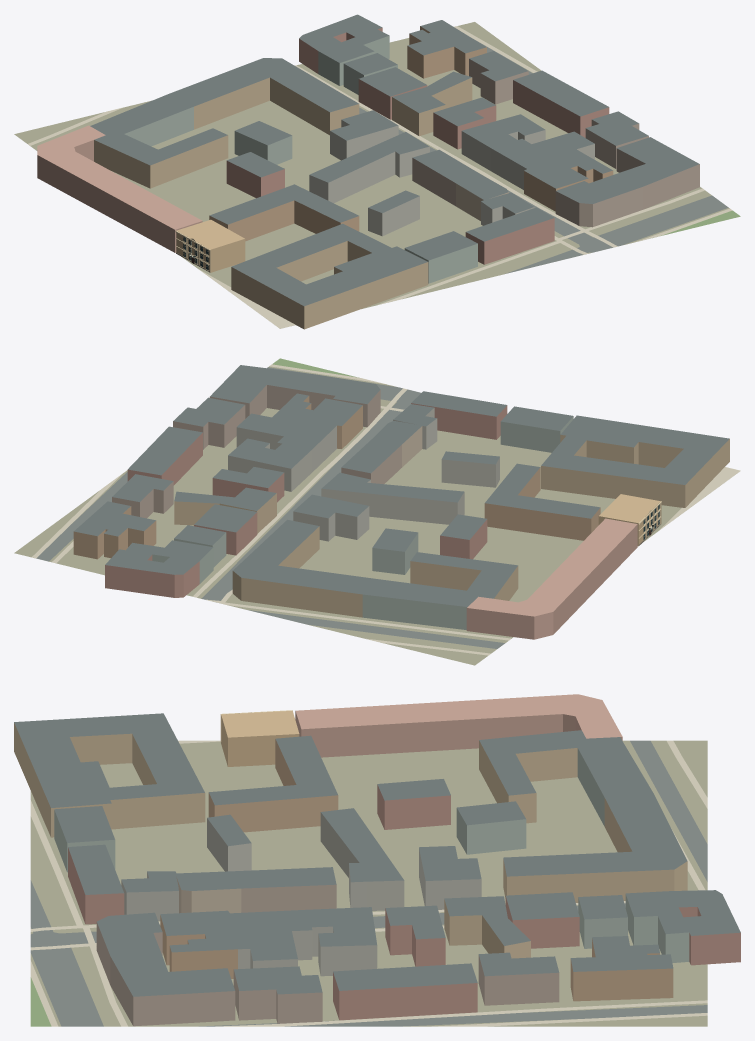
The model's file is sector-0_-2.glb.
3 views of the same model, one above another, from view 1: azimuth 30°, elevation 25°; view 2: azimuth 150°, elevation 25°; view 3: azimuth 270°, elevation 25° (orthographic). The views are drawn at different scales.
Parts seen in each view (by area): view 1: 0:-2-facade, 0:-2-roof, 0:-2-ground, 0:-2-masonry, 0:-2-paving, 0:-2-road, 0:-2-stone; view 2: 0:-2-facade, 0:-2-roof, 0:-2-ground, 0:-2-masonry, 0:-2-road, 0:-2-paving; view 3: 0:-2-roof, 0:-2-facade, 0:-2-ground, 0:-2-masonry, 0:-2-road, 0:-2-paving, 0:-2-park.
Boxes of the visible parts, x1,y1,x2,y2 form: 0:-2-facade: [94, 26, 699, 329]; 0:-2-roof: [90, 14, 699, 306]; 0:-2-ground: [14, 22, 729, 309]; 0:-2-masonry: [37, 125, 245, 272]; 0:-2-paving: [28, 26, 732, 328]; 0:-2-road: [36, 40, 728, 273]; 0:-2-stone: [175, 230, 210, 272]; 0:-2-facade: [73, 385, 729, 629]; 0:-2-roof: [74, 365, 729, 606]; 0:-2-ground: [14, 366, 681, 665]; 0:-2-masonry: [466, 494, 660, 639]; 0:-2-road: [36, 367, 505, 648]; 0:-2-paving: [32, 364, 740, 655]; 0:-2-roof: [14, 713, 740, 996]; 0:-2-facade: [14, 723, 740, 1026]; 0:-2-ground: [30, 740, 707, 1026]; 0:-2-masonry: [221, 694, 622, 766]; 0:-2-road: [30, 740, 707, 1026]; 0:-2-paving: [30, 740, 707, 1026]; 0:-2-park: [30, 977, 51, 1026].
Size of the model in its own units: 212 by 10.35 by 215.
